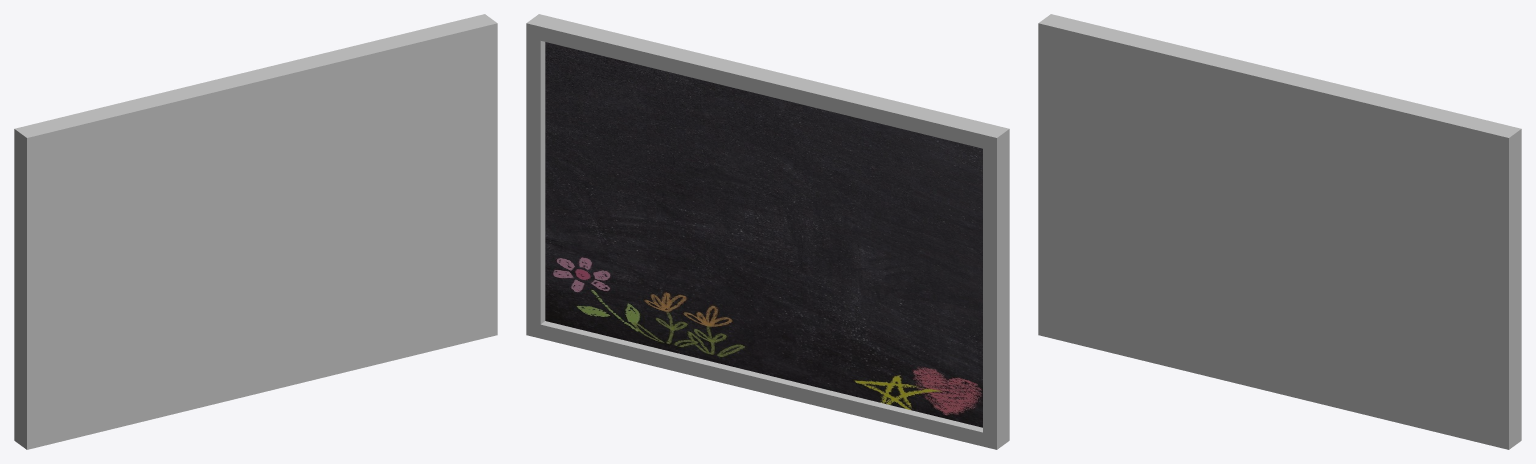
Rendered from boardBlack.fbx.
The picture shows the model from 3 angles, left to right: view 1: azimuth 30°, elevation 25°; view 2: azimuth 150°, elevation 25°; view 3: azimuth 330°, elevation 25°; orthographic projection.
Parts seen in each view (by area): view 1: board2; view 2: board2; view 3: board2.
Part boxes in pixels (x1=…): board2: x1=14, y1=14, x2=497, y2=449; board2: x1=526, y1=14, x2=1009, y2=449; board2: x1=1038, y1=14, x2=1521, y2=449.
Size of the model in its own units: 94.86 by 60.08 by 4.42.
